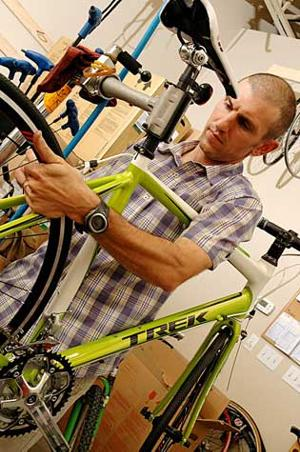person: (1, 73, 296, 451)
